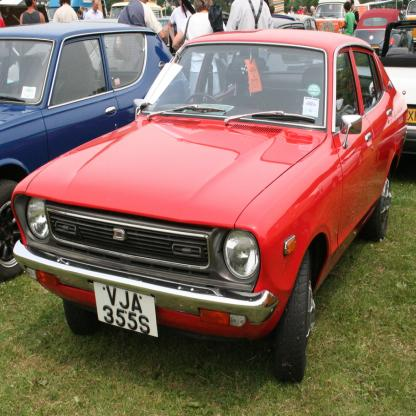Car: (1, 1, 416, 385)
